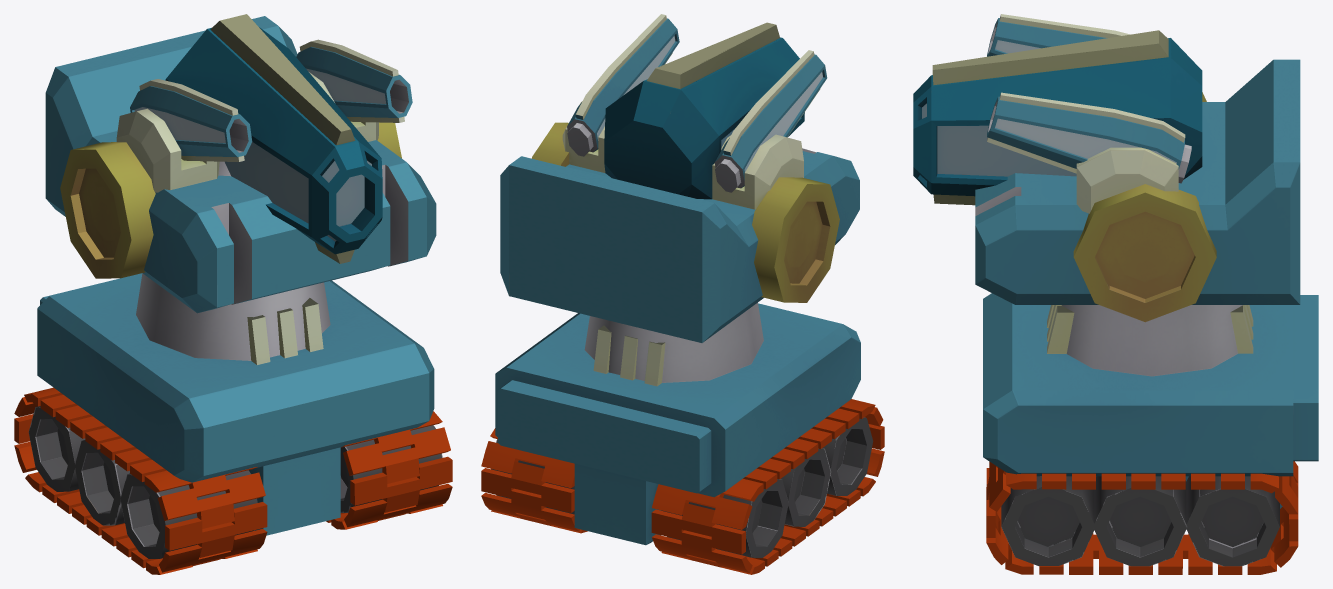
File: player_idle_1_upgrade5.obj
The picture shows the model from 3 angles, left to right: view 1: azimuth 30°, elevation 25°; view 2: azimuth 150°, elevation 25°; view 3: azimuth 270°, elevation 25°; orthographic projection. The views are drawn at different scales.
Parts seen in each view (by area): view 1: Object004, Box038, Object012, Object011, Box042; view 2: Object004, Box038, Object012, Object011, Box042; view 3: Object004, Object011, Object012, Box042.
Boxes of the visible parts, x1,y1,x2,y2 form: Object004: [37, 14, 436, 535]; Box038: [14, 387, 267, 574]; Object012: [130, 39, 412, 161]; Object011: [28, 406, 442, 558]; Box042: [326, 411, 452, 529]; Object004: [495, 22, 860, 545]; Box038: [651, 399, 884, 574]; Object012: [567, 14, 827, 192]; Object011: [491, 417, 873, 557]; Box042: [481, 428, 587, 533]; Object004: [913, 30, 1318, 508]; Object011: [1001, 476, 1279, 566]; Object012: [987, 14, 1191, 183]; Box042: [986, 461, 1298, 574].
Size of the model in its own units: 110 by 175 by 136.
Materials: 4 (2 with a texture image).
